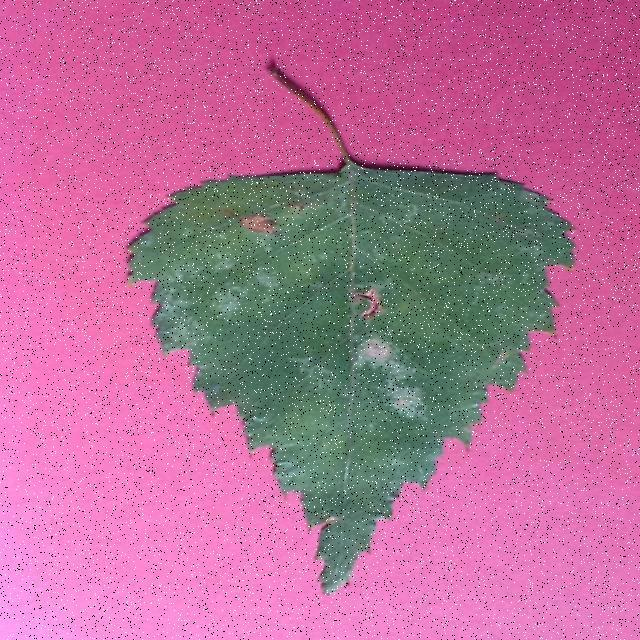foliage: (119, 55, 583, 604)
